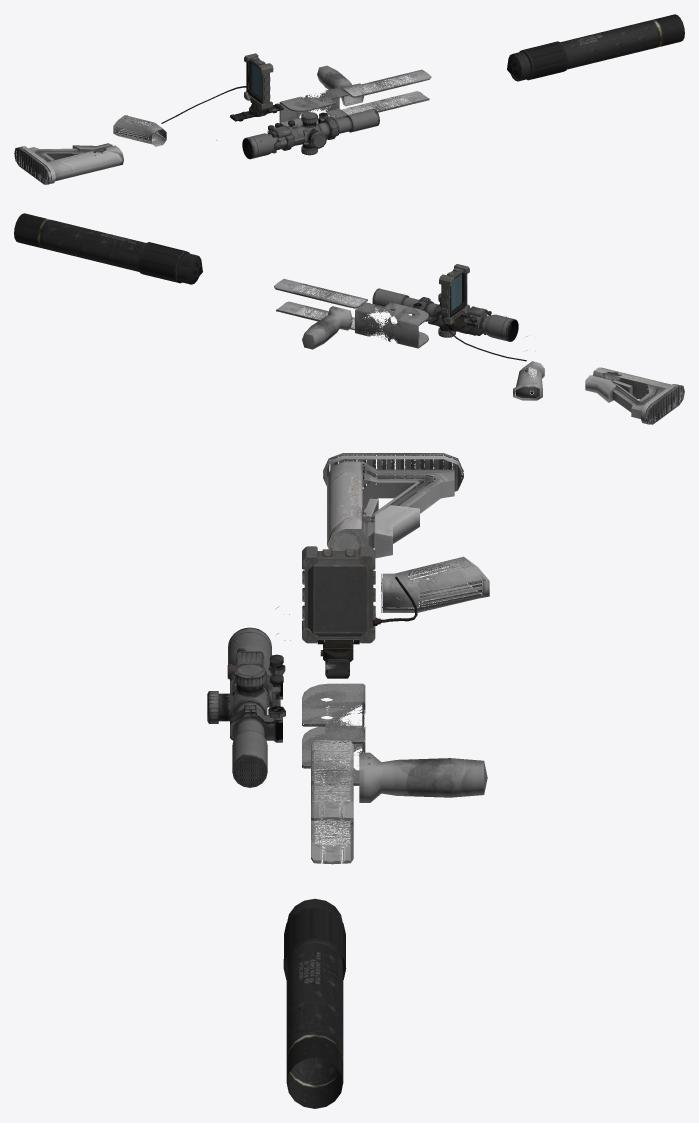
The model's file is viewmodel_m14_ebr_red_urban_LOD0.obj.
3 views of the same model, one above another, from view 1: azimuth 30°, elevation 25°; view 2: azimuth 150°, elevation 25°; view 3: azimuth 270°, elevation 25° (orthographic). The views are drawn at different scales.
Parts seen in each view (by area): view 1: mtl_weapon_m14ebr_rifle_red_urban, mtl_weapon_suppressor_b, mtl_weapon_m14ebr_scope_red_urban, mtl_weapon_motion_tracker, mtl_weapon_m14ebr_foregrip_red_urban, mtl_weapon_acog_2_red_urban, mtl_weapon_thermal_sight_2; view 2: mtl_weapon_m14ebr_rifle_red_urban, mtl_weapon_suppressor_b, mtl_weapon_m14ebr_scope_red_urban, mtl_weapon_motion_tracker, mtl_weapon_m14ebr_foregrip_red_urban, mtl_weapon_thermal_sight_2; view 3: mtl_weapon_m14ebr_rifle_red_urban, mtl_weapon_suppressor_b, mtl_weapon_motion_tracker, mtl_weapon_m14ebr_scope_red_urban, mtl_weapon_m14ebr_foregrip_red_urban.
Boxes of the visible parts, left/top/right/bottom form: mtl_weapon_m14ebr_rifle_red_urban: left=14, top=69, right=431, bottom=184; mtl_weapon_suppressor_b: left=507, top=14, right=684, bottom=81; mtl_weapon_m14ebr_scope_red_urban: left=242, top=109, right=379, bottom=159; mtl_weapon_motion_tracker: left=161, top=53, right=283, bottom=123; mtl_weapon_m14ebr_foregrip_red_urban: left=317, top=65, right=364, bottom=106; mtl_weapon_acog_2_red_urban: left=260, top=120, right=308, bottom=153; mtl_weapon_thermal_sight_2: left=269, top=123, right=308, bottom=150; mtl_weapon_m14ebr_rifle_red_urban: left=274, top=279, right=684, bottom=424; mtl_weapon_suppressor_b: left=14, top=213, right=202, bottom=284; mtl_weapon_m14ebr_scope_red_urban: left=372, top=288, right=518, bottom=341; mtl_weapon_motion_tracker: left=428, top=264, right=526, bottom=361; mtl_weapon_m14ebr_foregrip_red_urban: left=302, top=306, right=352, bottom=349; mtl_weapon_thermal_sight_2: left=458, top=306, right=491, bottom=335; mtl_weapon_m14ebr_rifle_red_urban: left=275, top=453, right=489, bottom=864; mtl_weapon_suppressor_b: left=283, top=898, right=346, bottom=1108; mtl_weapon_motion_tracker: left=302, top=546, right=417, bottom=678; mtl_weapon_m14ebr_scope_red_urban: left=207, top=627, right=285, bottom=787; mtl_weapon_m14ebr_foregrip_red_urban: left=359, top=752, right=487, bottom=802.
Bounding box in the file's own units: 159 × 20.81 × 31.21.
